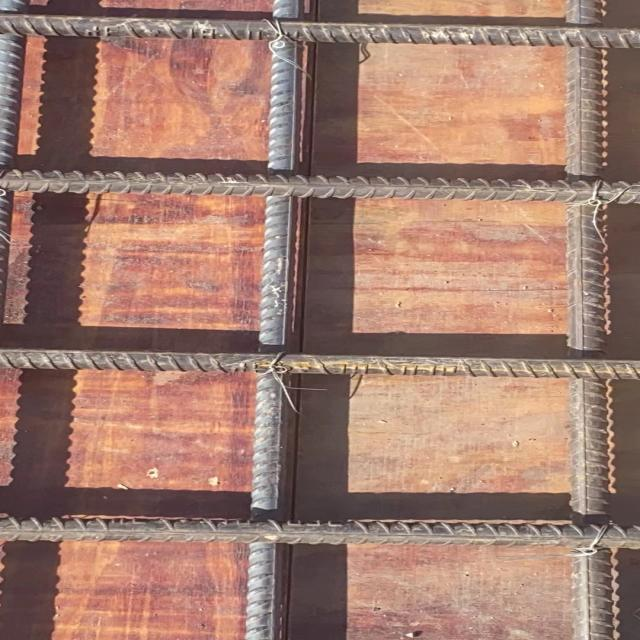ribbed bar: (243, 0, 306, 639), (568, 0, 616, 639), (1, 167, 640, 205), (1, 12, 640, 50), (1, 345, 640, 381), (1, 514, 640, 550)
